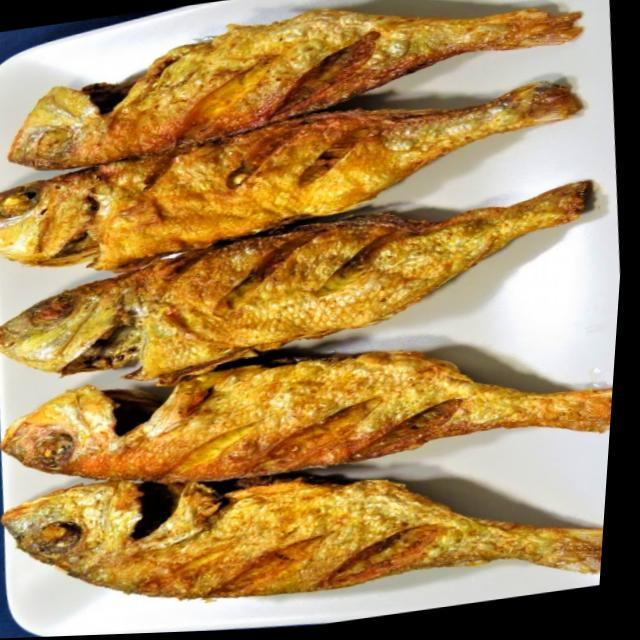ikan goreng: (0, 413, 617, 639), (0, 180, 609, 403), (0, 77, 604, 290), (0, 315, 622, 517), (0, 0, 598, 180)
